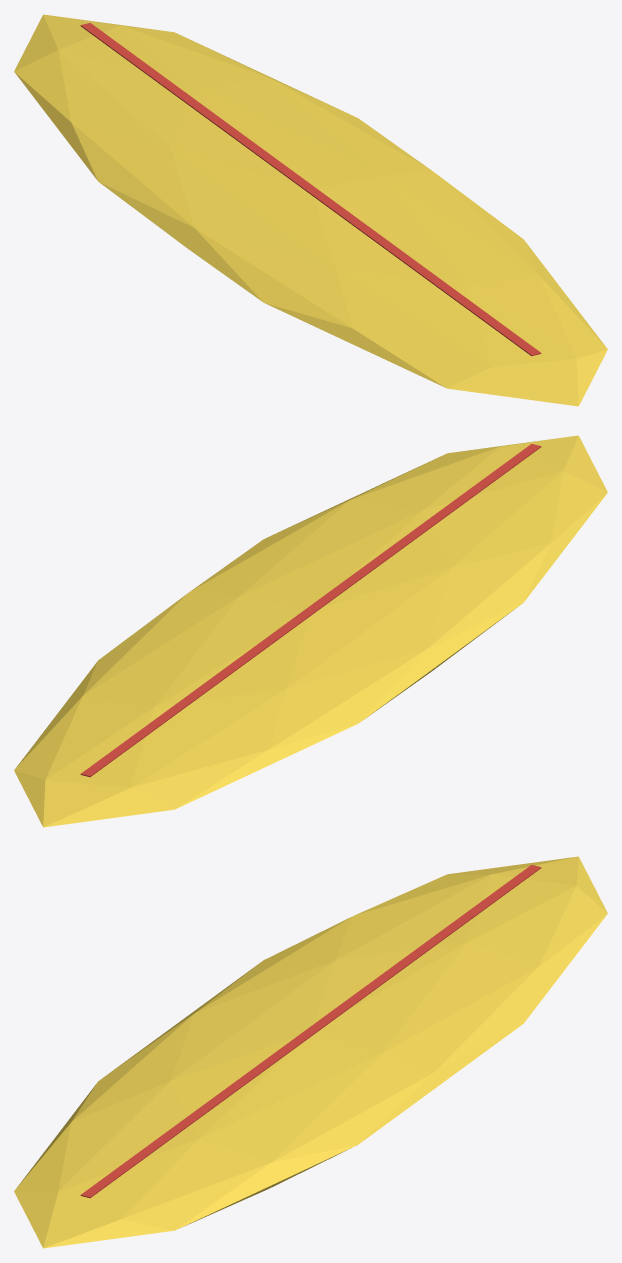
Rendered from sm_product_surfboard.glb.
3 renders of one model, top to bottom at view 1: azimuth 30°, elevation 25°; view 2: azimuth 150°, elevation 25°; view 3: azimuth 330°, elevation 25°, orthographic.
Parts seen in each view (by area): view 1: surfboard_0, surfboard_1; view 2: surfboard_0, surfboard_1; view 3: surfboard_0, surfboard_1.
Boxes of the visible parts, left/top/right/bottom form: surfboard_0: left=14, top=14, right=607, bottom=406; surfboard_1: left=80, top=23, right=541, bottom=356; surfboard_0: left=14, top=435, right=607, bottom=827; surfboard_1: left=80, top=444, right=541, bottom=777; surfboard_0: left=14, top=856, right=607, bottom=1248; surfboard_1: left=80, top=865, right=541, bottom=1198.
Size of what is drawn, in the model's own units: 0.5326 by 0.082 by 1.9.
